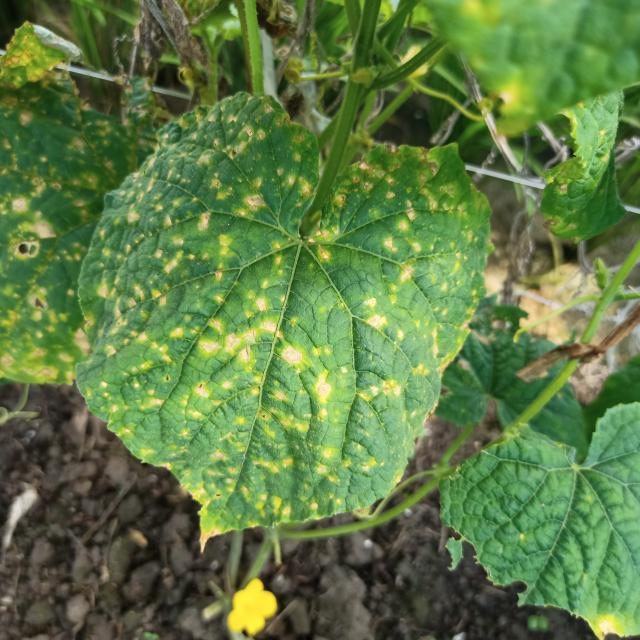disease_cucumber: (82, 92, 479, 538), (0, 60, 160, 389)
